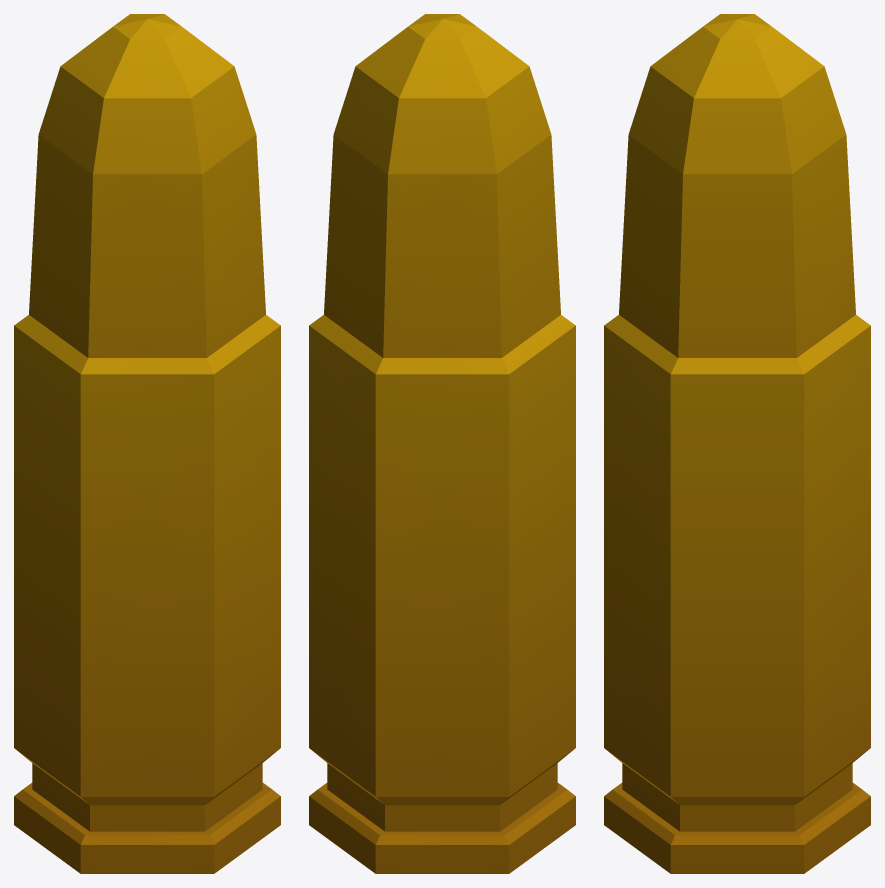
The model's file is Bullet_9_V1.glb.
3 views of the same model, side by side, from view 1: azimuth 30°, elevation 25°; view 2: azimuth 150°, elevation 25°; view 3: azimuth 270°, elevation 25° (orthographic).
Parts seen in each view (by area): view 1: Bullet_9_V1; view 2: Bullet_9_V1; view 3: Bullet_9_V1.
Part boxes in pixels (x1,y1,x2,y2): Bullet_9_V1: (14,14,280,873); Bullet_9_V1: (309,14,575,873); Bullet_9_V1: (604,14,870,873).
Bounding box in the file's own units: 0.00779 × 0.03 × 0.009.
Materials: 1 (1 with a texture image).
